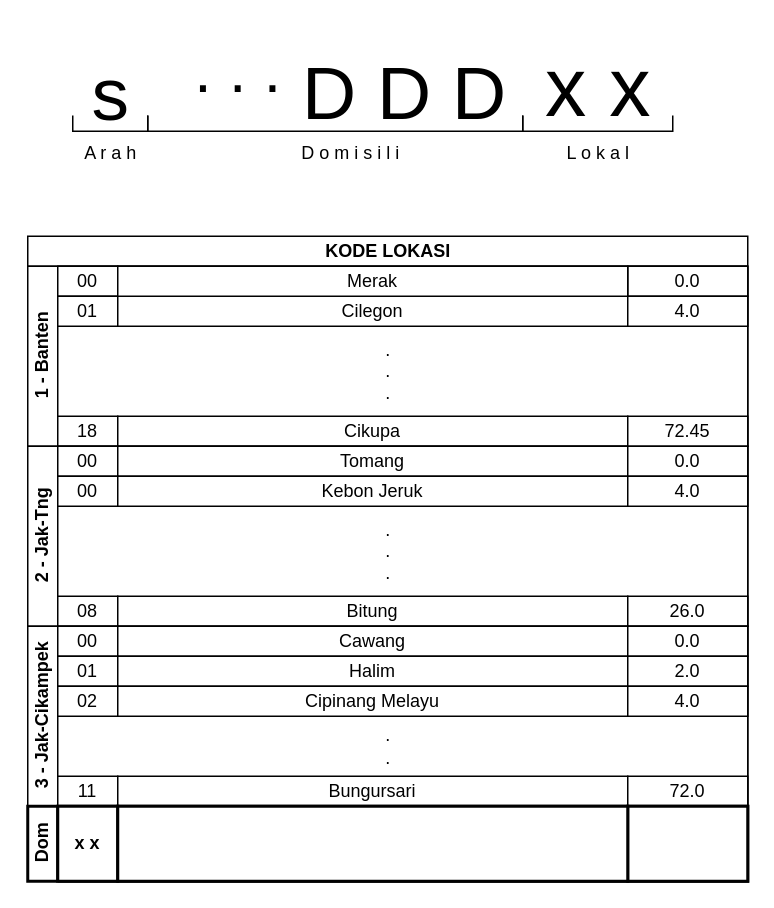
The diagram is 774 pixels wide and 908 high, and some of its shapes have lost their labels. Here are the shapes that lost their labels. From the top down, the centre of each, then its label:
At point (372, 843): "Lokasi Gerbang Pintu Tol".
At point (687, 843): "Jarak lokal Absolut (km)".
